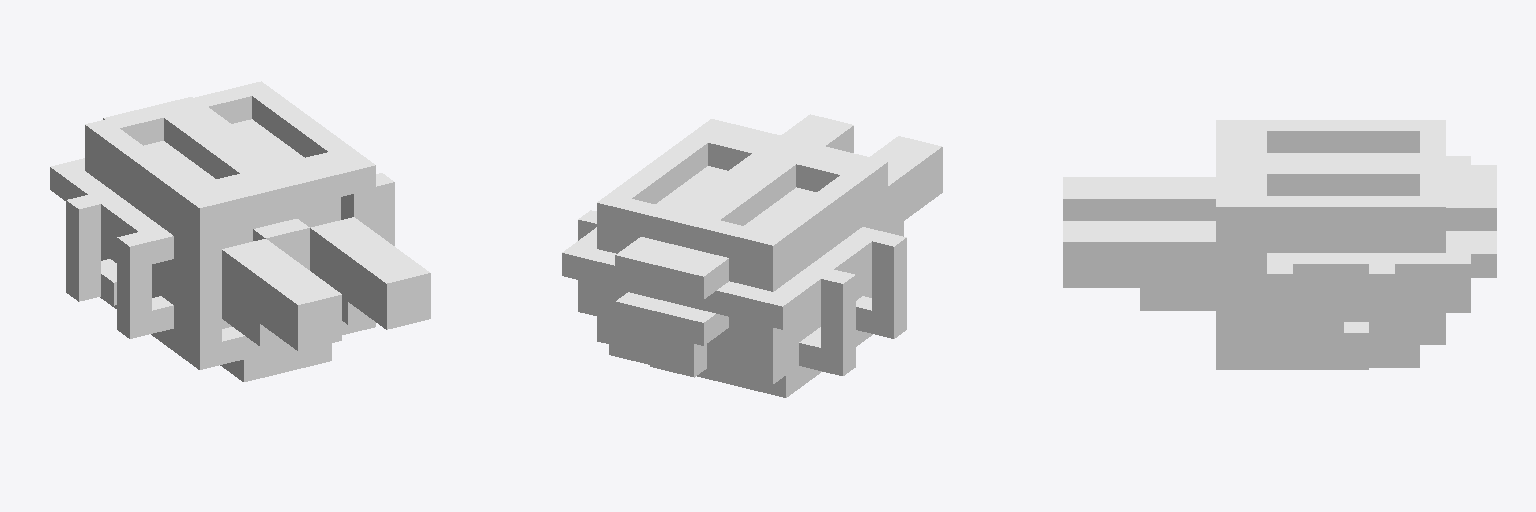
File: enemy_t_turret2.obj
3 views of the same model, side by side, from view 1: azimuth 30°, elevation 25°; view 2: azimuth 150°, elevation 25°; view 3: azimuth 270°, elevation 25° (orthographic).
Parts seen in each view (by area): view 1: object 1; view 2: object 1; view 3: object 1.
Boxes of the visible parts, x1,y1,x2,y2 form: object 1: [50, 81, 430, 381]; object 1: [562, 114, 942, 397]; object 1: [1063, 120, 1496, 369].
Size of the model in its own units: 1.2 by 0.8 by 1.7.